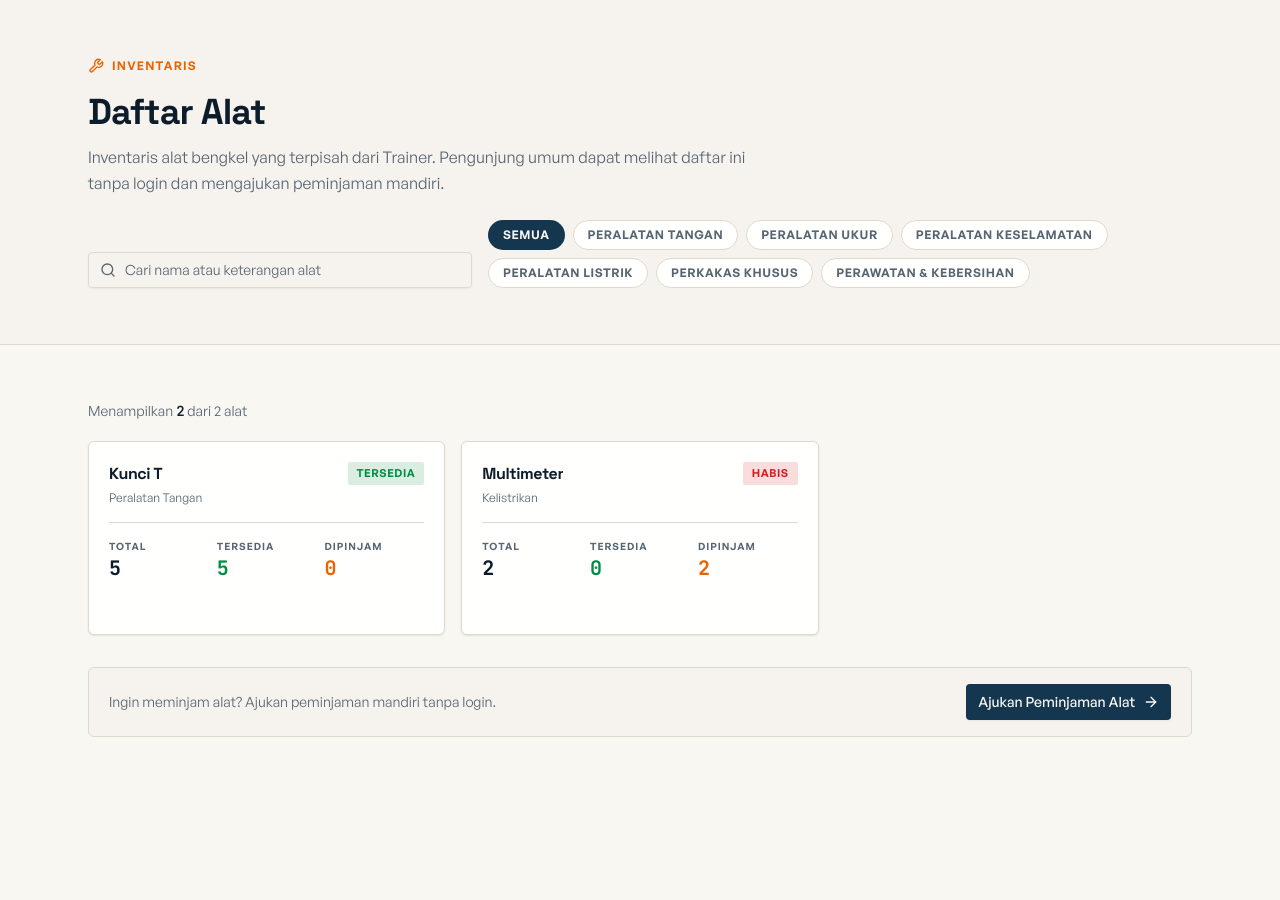
Scenario: Alat list › renders the list and filters by search text
This screenshot has width=1280, height=900.
Expected: the heading "Kunci T" is shown, [109, 463, 162, 484]
Expected: the heading "Multimeter" is shown, [482, 462, 563, 486]
Step 1. Type "Multimeter" into the search field with test id "alat.search_input" → (280, 270), box [88, 252, 472, 288]
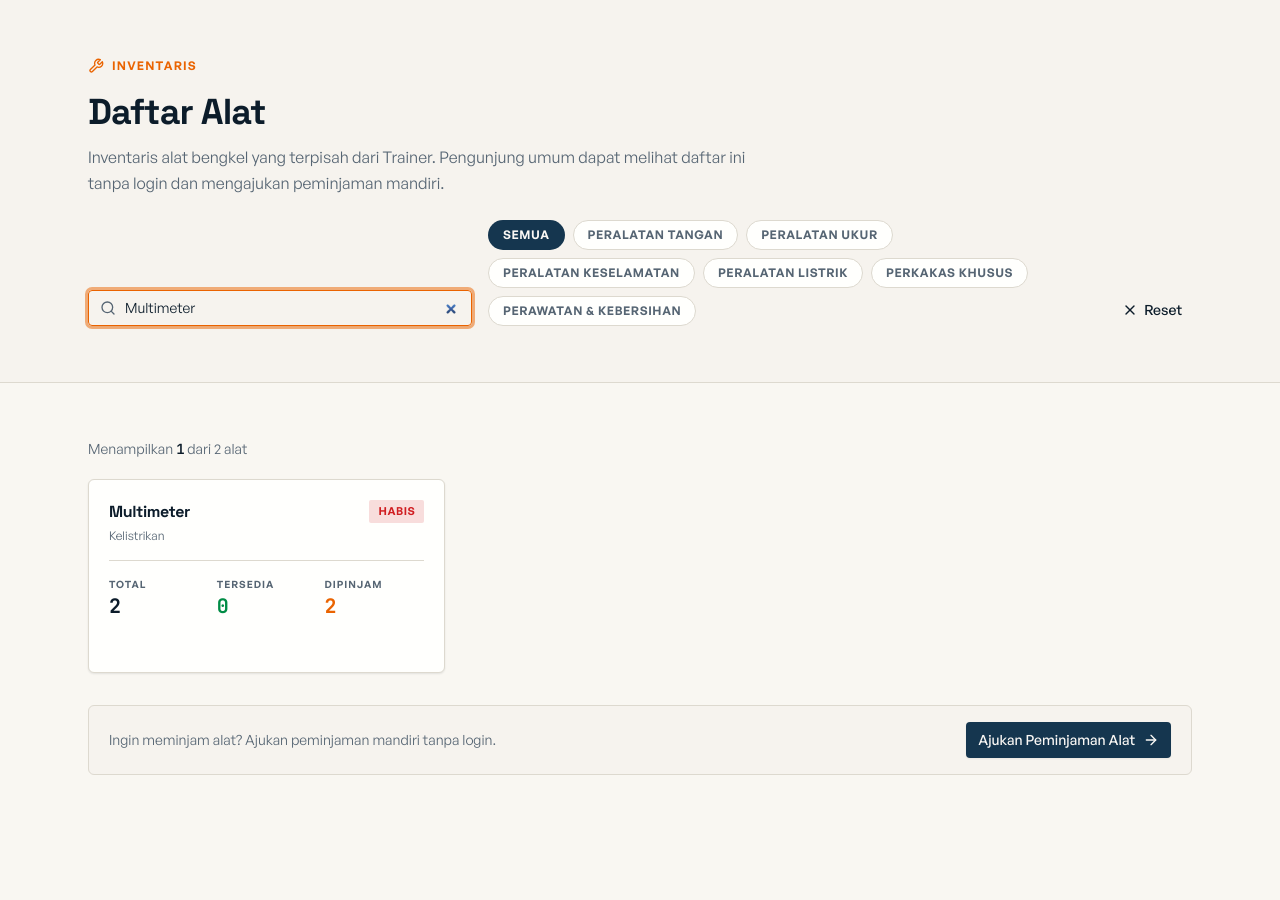
Expected: the heading "Multimeter" is shown, [109, 500, 190, 524]
Expected: the link "Kunci T" is gone
